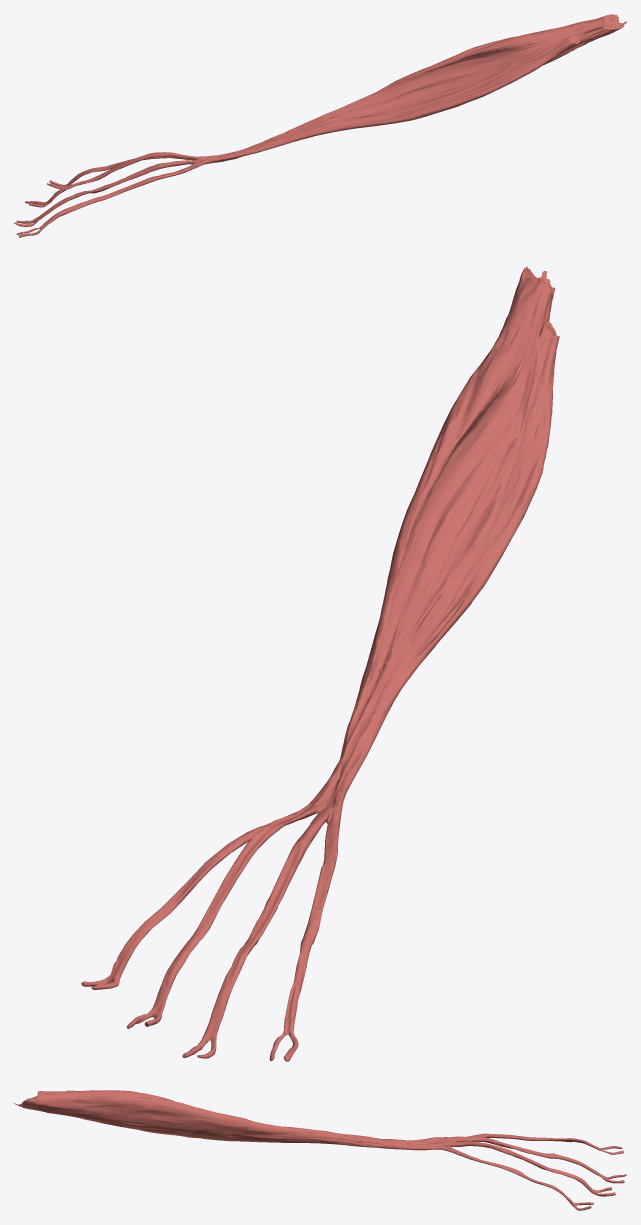
3 renders of one model, top to bottom at view 1: azimuth 90°, elevation 25°; view 2: azimuth 150°, elevation 25°; view 3: azimuth 270°, elevation 25°, orthographic. The views are drawn at different scales.
Visible parts, largest first — view 1: 右侧指浅屈肌肱尺头; view 2: 右侧指浅屈肌肱尺头; view 3: 右侧指浅屈肌肱尺头.
Part boxes in pixels (x1,y1,x2,y2): 右侧指浅屈肌肱尺头: (14,14,626,237); 右侧指浅屈肌肱尺头: (81,266,559,1061); 右侧指浅屈肌肱尺头: (14,1090,626,1210).
Size of the model in its own units: 0.1945 by 0.1528 by 0.5742.
